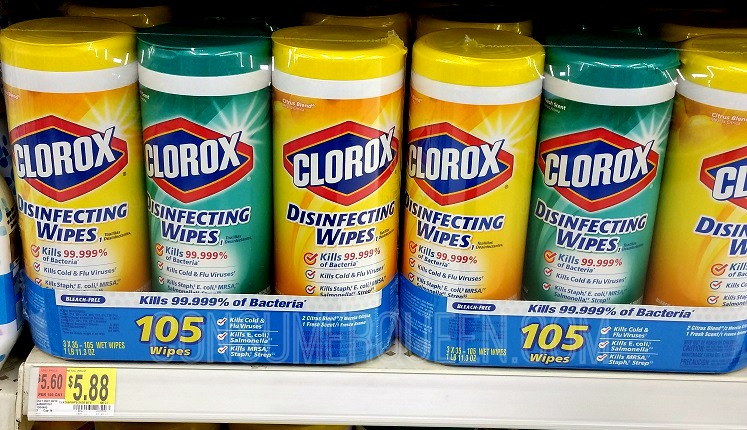Wipes: (1, 12, 150, 363), (523, 20, 668, 370), (401, 23, 546, 364), (138, 15, 270, 363), (271, 17, 403, 362), (639, 25, 747, 375)
